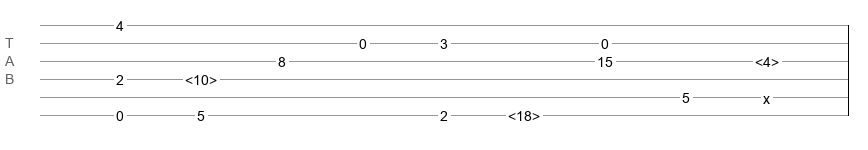0: (116, 108, 124, 118), (359, 36, 367, 46), (601, 36, 609, 46)
15: (597, 54, 613, 64)
2: (116, 72, 124, 82), (440, 108, 448, 118)
3: (440, 36, 448, 46)
4: (116, 18, 124, 28)
5: (197, 108, 205, 118), (682, 90, 690, 100)
8: (278, 54, 286, 64)
harmonic: (185, 72, 217, 82), (508, 108, 540, 118), (755, 54, 779, 64)
x: (763, 91, 770, 99)
